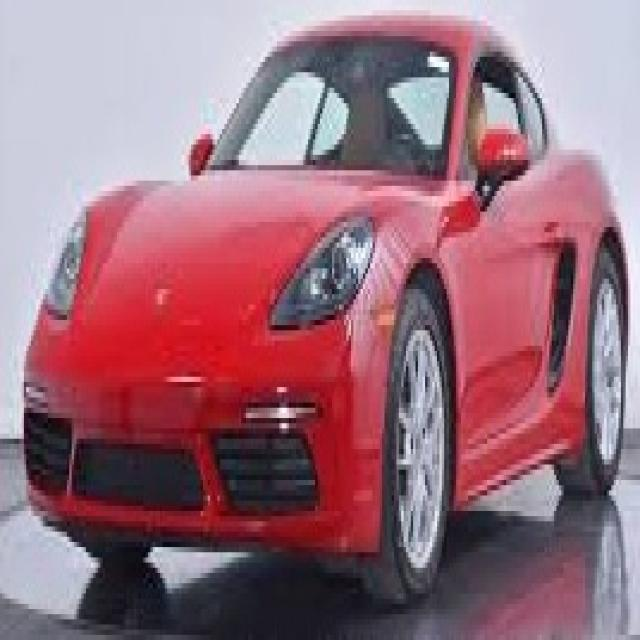red: (24, 12, 620, 512)
